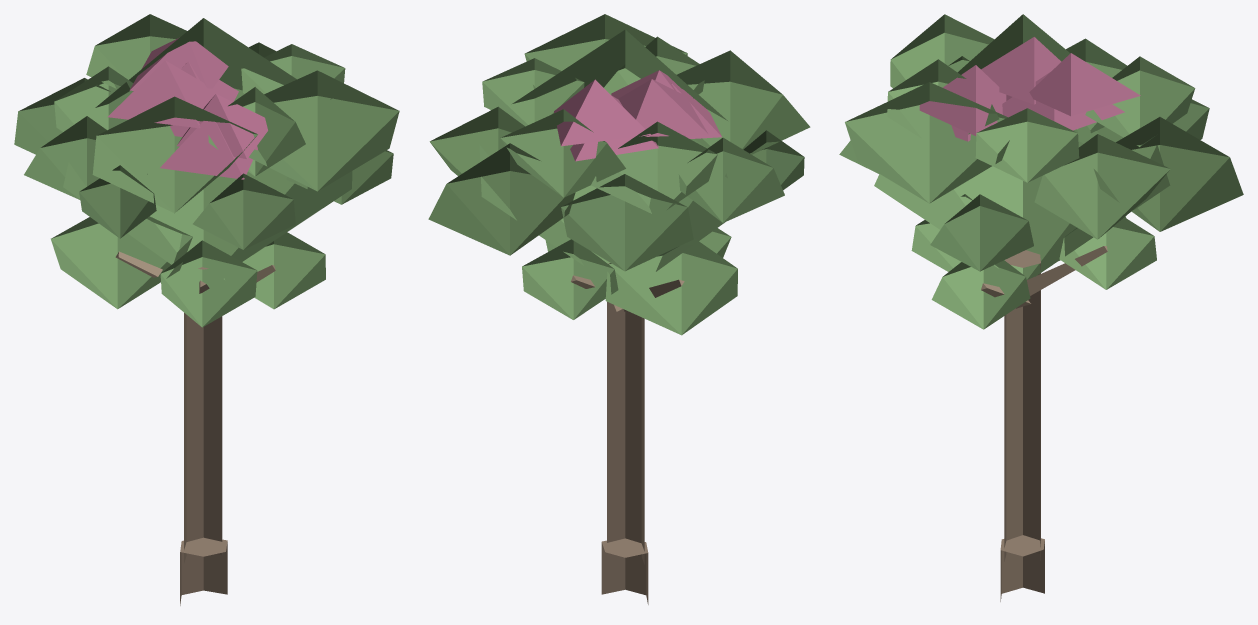
File: tree.trop.dipterocarp__bloom.glb
3 renders of one model, left to right at view 1: azimuth 30°, elevation 25°; view 2: azimuth 150°, elevation 25°; view 3: azimuth 270°, elevation 25°, orthographic. The views are drawn at different scales.
Visible parts, largest first — view 1: tree.trop.dipterocarp__bloom; view 2: tree.trop.dipterocarp__bloom; view 3: tree.trop.dipterocarp__bloom.
Boxes of the visible parts, x1,y1,x2,y2 form: tree.trop.dipterocarp__bloom: (14, 14, 399, 605); tree.trop.dipterocarp__bloom: (428, 14, 810, 604); tree.trop.dipterocarp__bloom: (839, 14, 1243, 601).
Bounding box in the file's own units: 17.86 × 29.23 × 18.32.
